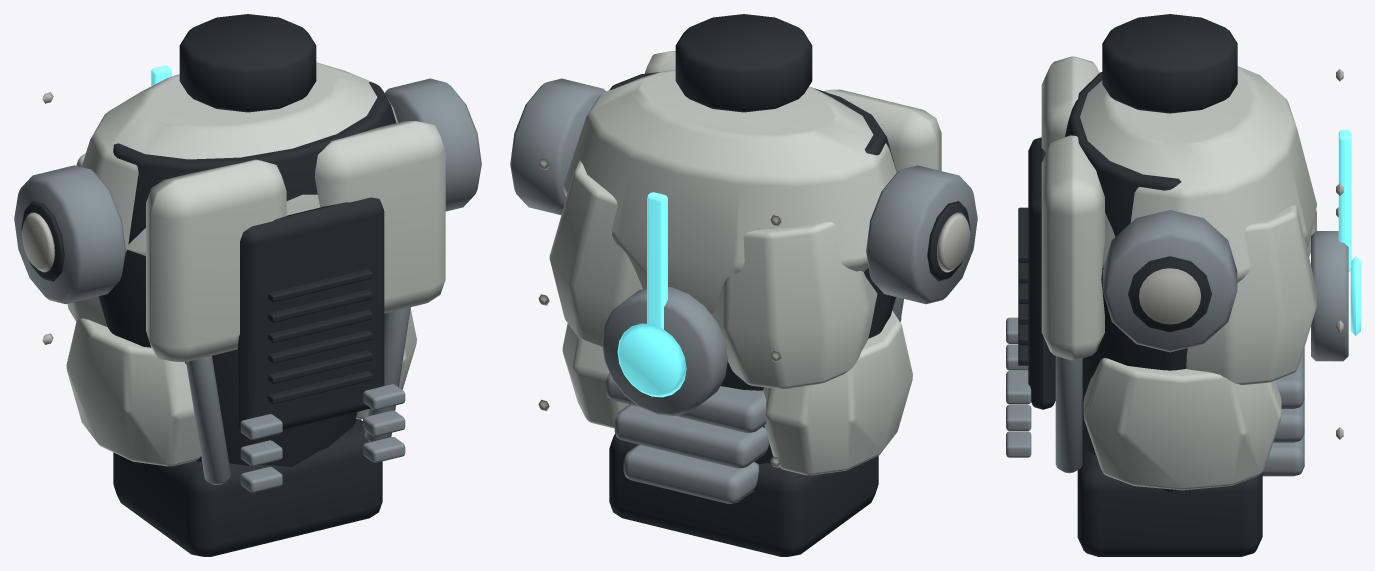
The model's file is torsos_12.glb.
The picture shows the model from 3 angles, left to right: view 1: azimuth 30°, elevation 25°; view 2: azimuth 150°, elevation 25°; view 3: azimuth 270°, elevation 25°; orthographic projection.
Parts seen in each view (by area): view 1: torsos_12_Geometry; view 2: torsos_12_Geometry; view 3: torsos_12_Geometry.
Part boxes in pixels (x1,y1,x2,y2): torsos_12_Geometry: (14, 14, 481, 556); torsos_12_Geometry: (510, 14, 977, 556); torsos_12_Geometry: (1006, 14, 1360, 556).
Bounding box in the file's own units: 0.592 × 0.625 × 0.422.
